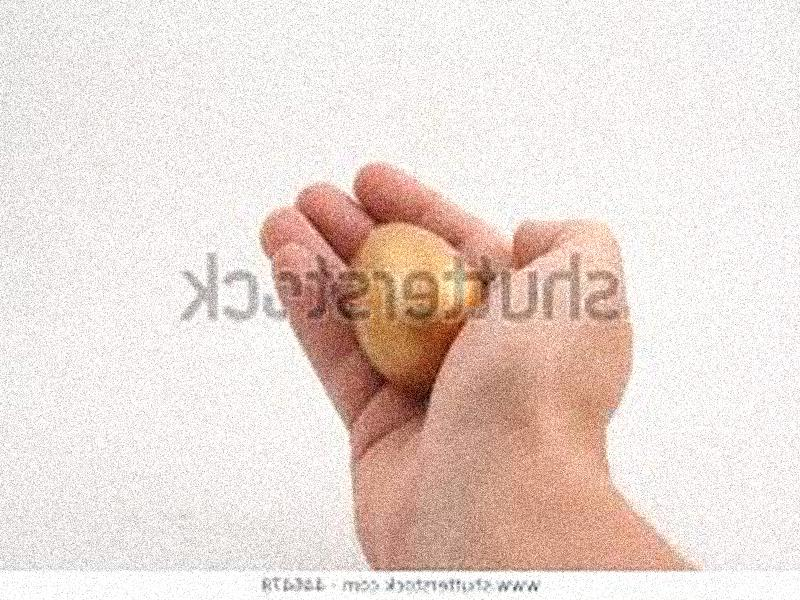Eggs: (351, 223, 477, 386)
